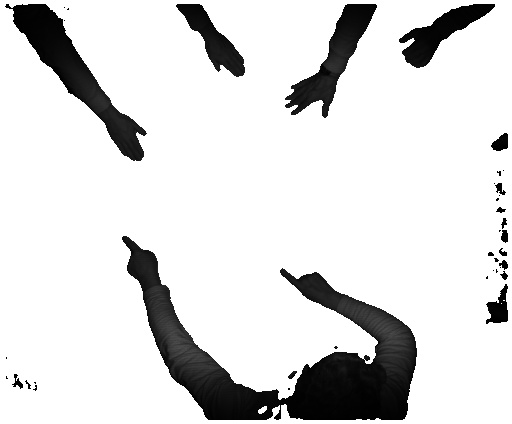hand: (282, 75, 336, 119), (107, 114, 151, 167), (392, 28, 441, 71), (120, 233, 160, 285), (280, 264, 332, 304), (205, 31, 247, 79)
